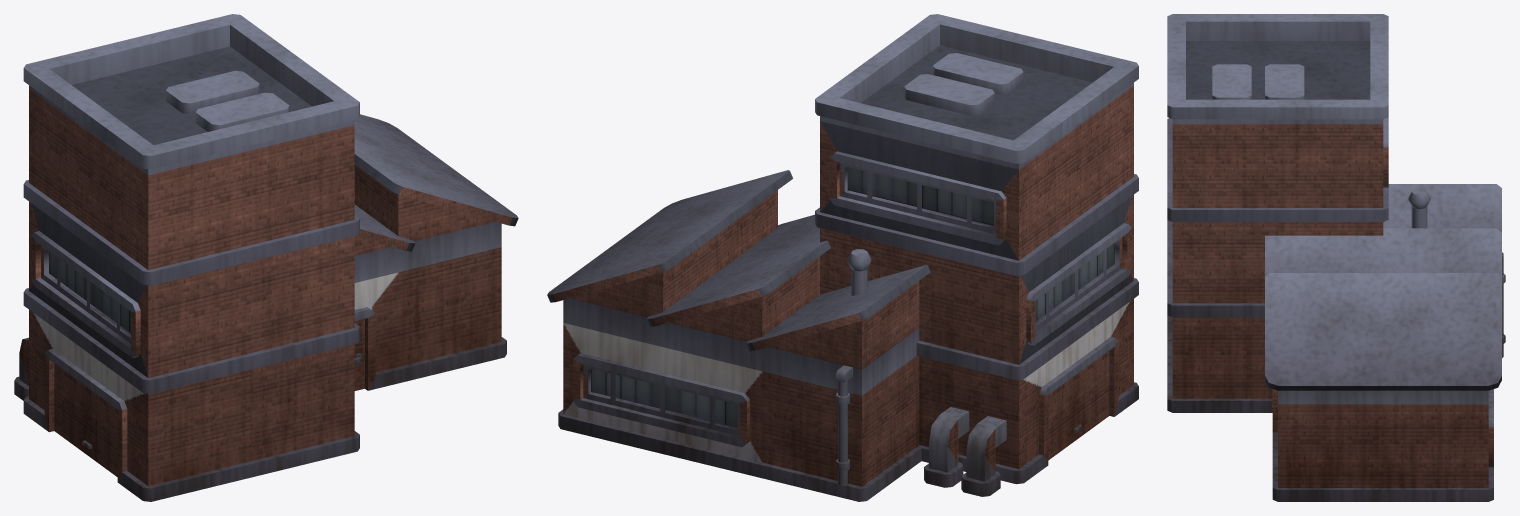
File: building-g-brown.glb
3 renders of one model, left to right at view 1: azimuth 30°, elevation 25°; view 2: azimuth 150°, elevation 25°; view 3: azimuth 270°, elevation 25°, orthographic. The views are drawn at different scales.
Visible parts, largest first — view 1: building-g; view 2: building-g; view 3: building-g.
Boxes of the visible parts, x1=… form: building-g: x1=14, y1=14, x2=518, y2=501; building-g: x1=547, y1=14, x2=1138, y2=501; building-g: x1=1167, y1=14, x2=1505, y2=501.
Bounding box in the file's own units: 1.68 × 1.28 × 1.28.
Materials: 1 (1 with a texture image).
